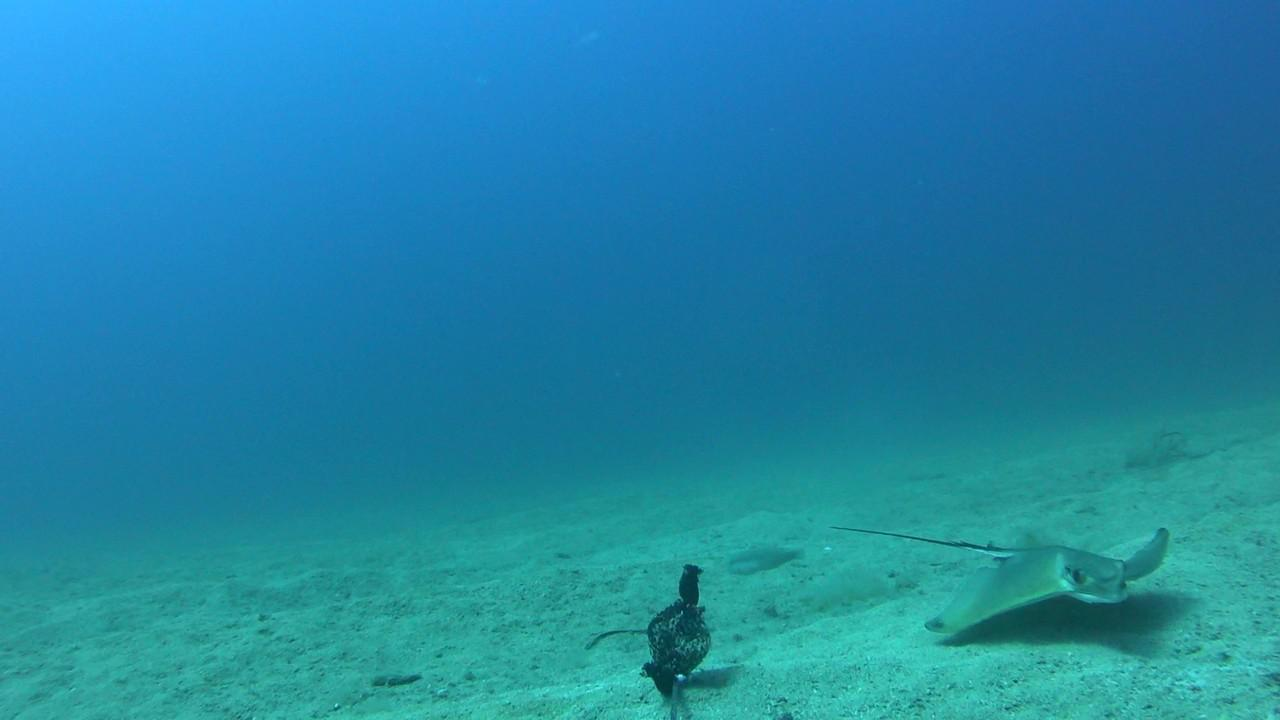myliobatis: (807, 498, 1178, 645)
raor: (726, 540, 803, 581)
